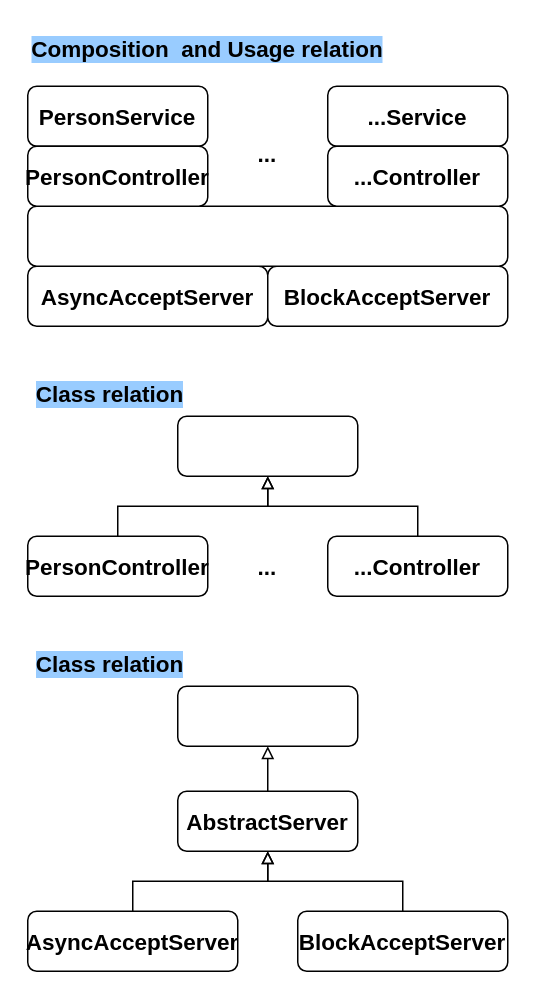
Some shapes in this 534 by 998 pixel diagram are drawn without their labels. The centre of each missing label's shape, as x and y in pixels:
"IController" belongs at point 267,445.
"IServer" belongs at point 267,715.
"Router" belongs at point 267,235.
